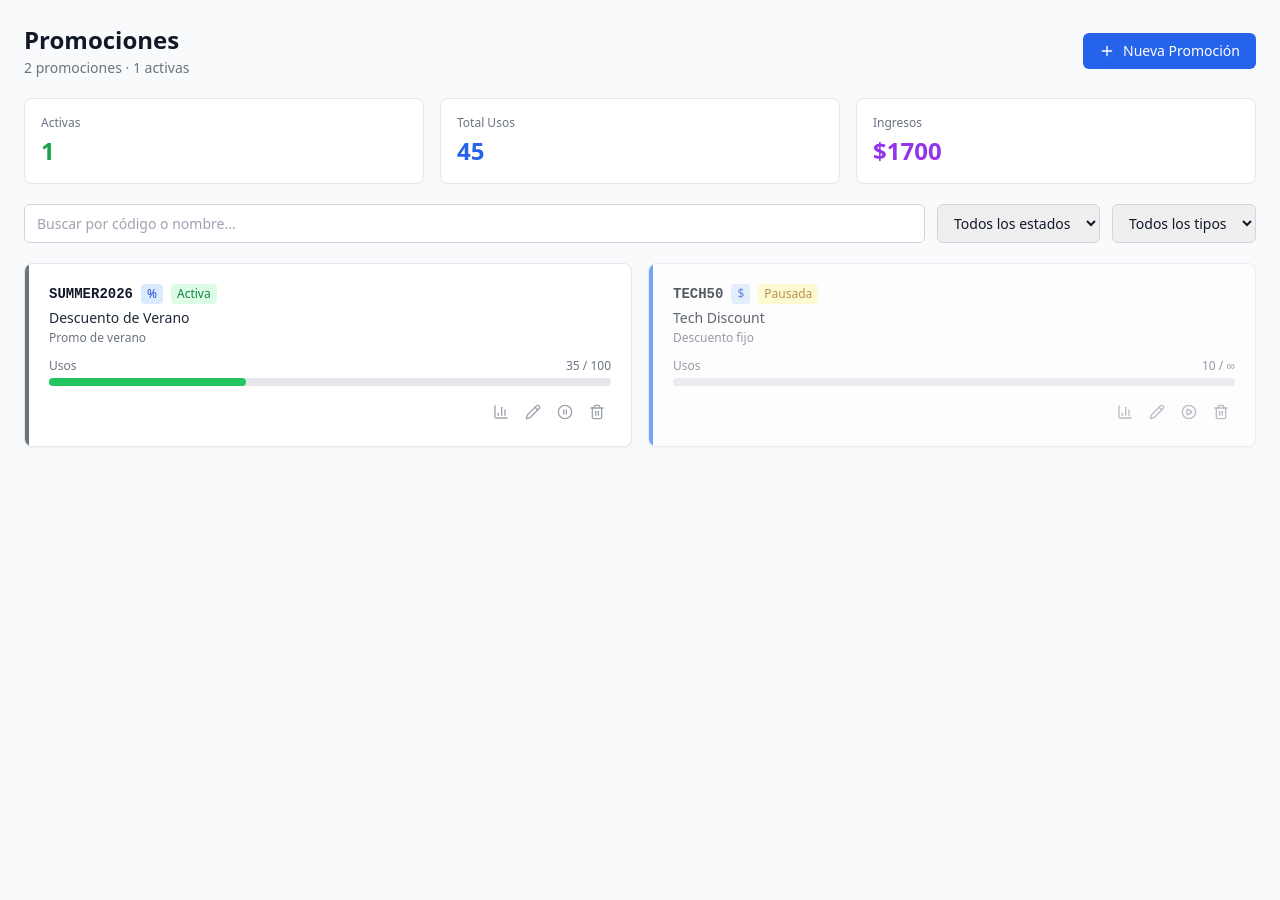
Test: PromotionsPage › stats modal consume el endpoint real de stats
Click the button named "ver estadísticas de descuento de verano".
click(501, 412)  # box [487,398,515,426]
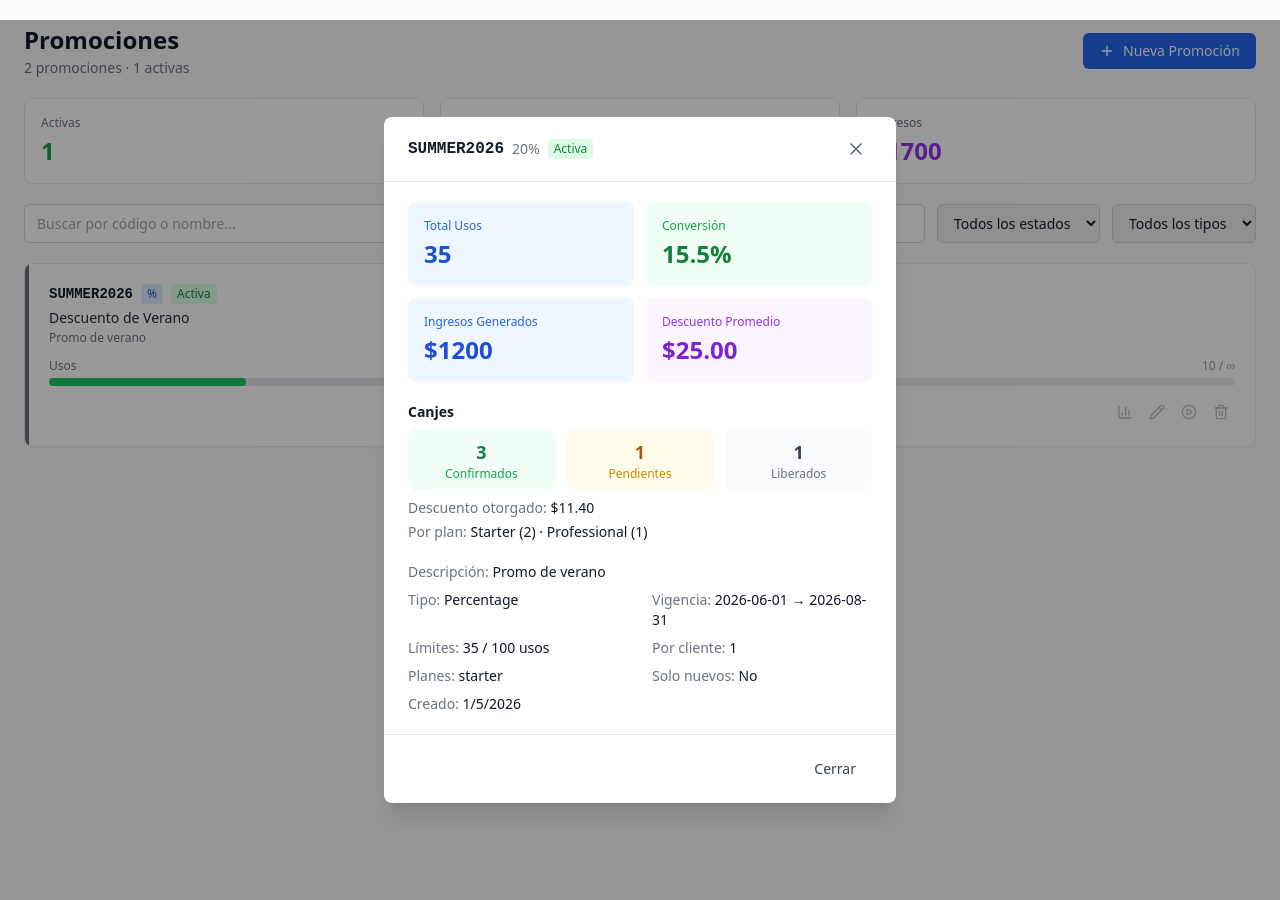
Expected: the text "Confirmados" is shown, [445,465,518,482]
Expected: the text "Pendientes" is shown, [608,465,672,482]
Expected: the text "Liberados" is shown, [771,465,826,482]
